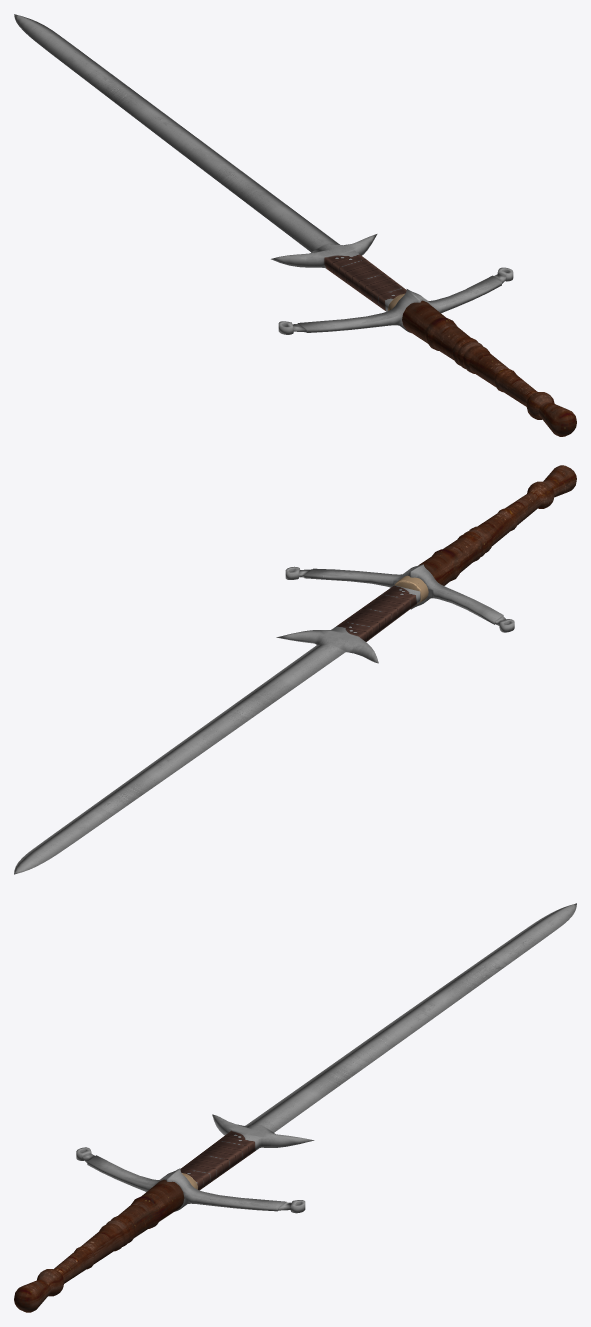
File: SWORD.glb
3 views of the same model, one above another, from view 1: azimuth 30°, elevation 25°; view 2: azimuth 150°, elevation 25°; view 3: azimuth 330°, elevation 25° (orthographic). The views are drawn at different scales.
Visible parts, largest first — view 1: sword_spp; view 2: sword_spp; view 3: sword_spp.
Part boxes in pixels (<box>): sword_spp: <box>14,14,576,436</box>; sword_spp: <box>14,465,576,874</box>; sword_spp: <box>14,903,576,1312</box>.
Bounding box in the file's own units: 1.58 × 0.2543 × 6.65.
1 material, 1 textured.
